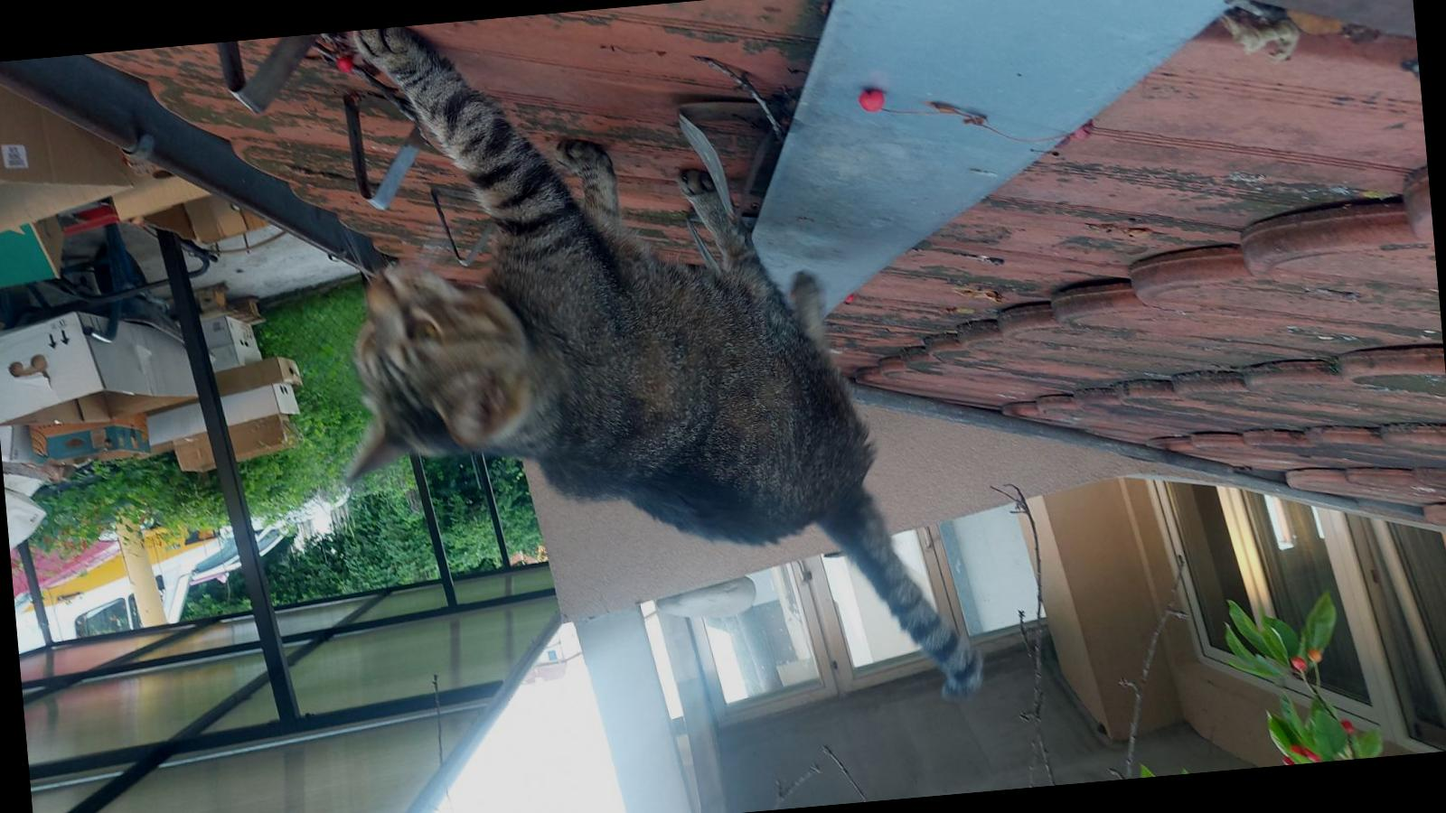macka: (305, 0, 988, 751)
